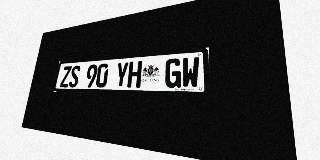0: (95, 63, 109, 88)
9: (85, 64, 98, 87)
G: (164, 58, 182, 88)
H: (127, 61, 142, 88)
S: (68, 65, 81, 87)
W: (181, 57, 200, 88)
Y: (114, 62, 129, 88)
Z: (60, 66, 72, 87)
